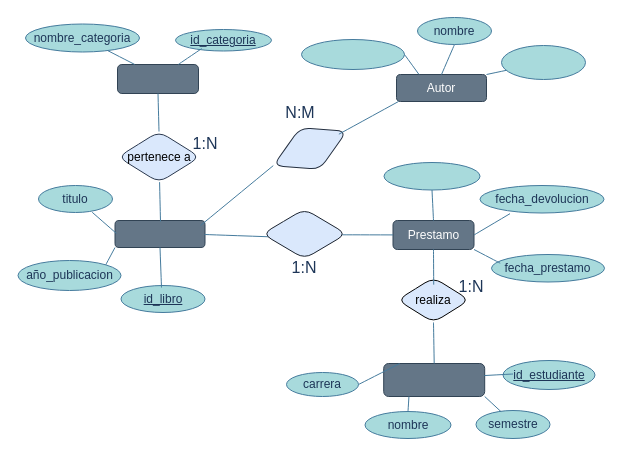
This 622x456 diagram has some shape labels left out. The centre of each missing label's shape, as x and y in pixels:
"Categoria" belongs at pixel 157 79.
"Escribe" belongs at pixel 309 148.
"Estudiante" belongs at pixel 434 379.
"id_autor" belongs at pixel 543 62.
"id_prestamo" belongs at pixel 431 176.
"incluye" belongs at pixel 304 233.
"Libro" belongs at pixel 159 234.
"nacionalidad" belongs at pixel 352 54.
